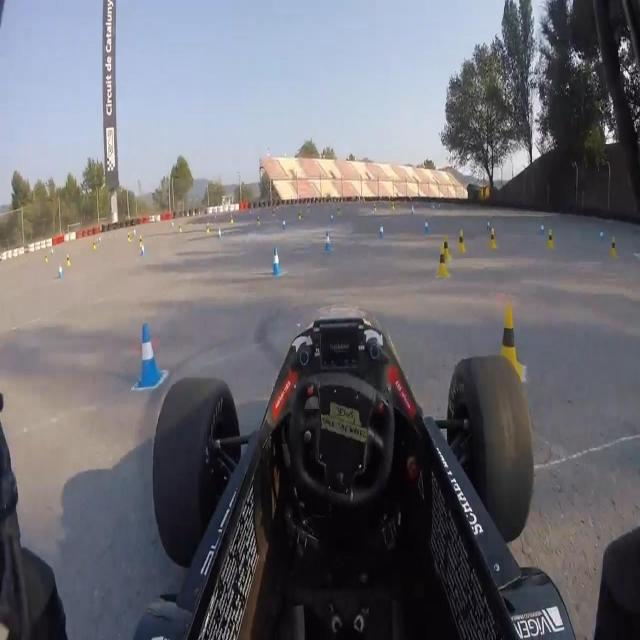blue_cone: (138, 322, 164, 390), (272, 248, 282, 275), (324, 232, 331, 251), (58, 260, 64, 279), (423, 217, 429, 235), (216, 226, 222, 243), (380, 221, 385, 240), (141, 241, 145, 258)
yellow_cone: (497, 308, 522, 379), (607, 234, 619, 259), (438, 247, 446, 278), (442, 235, 451, 261), (546, 228, 555, 250), (489, 228, 496, 248), (459, 230, 465, 253), (66, 252, 71, 269), (44, 253, 48, 265)
